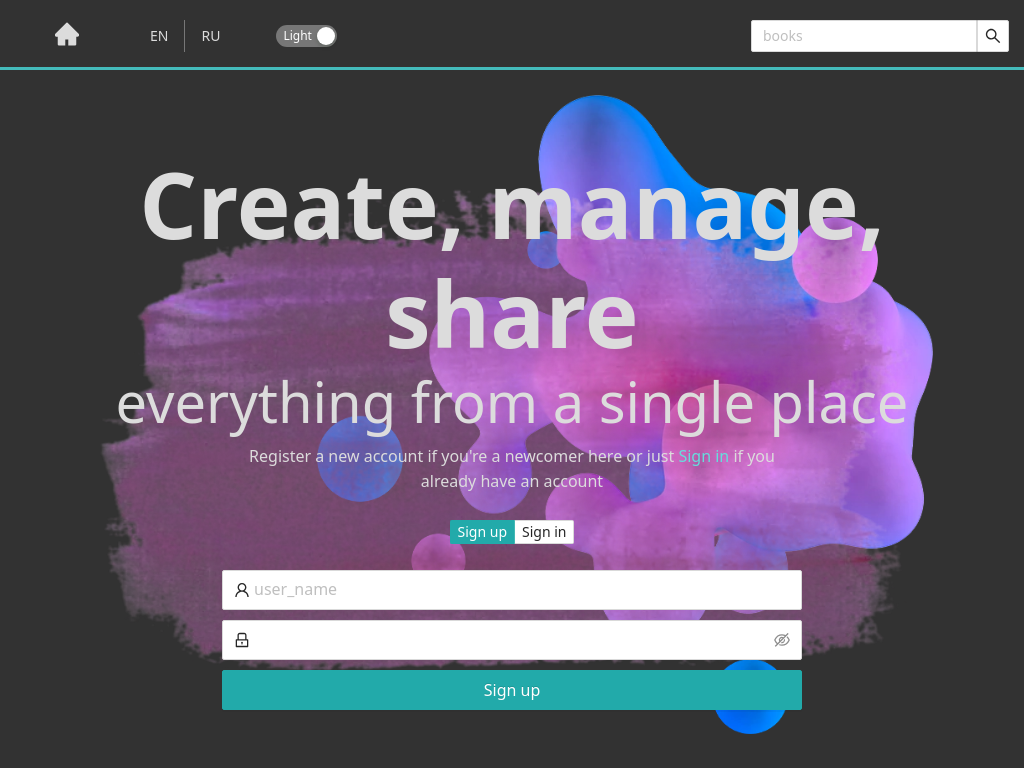
Scenario: languages are switching properly
Expected: the heading "Create, manage, share" is shown, x1=139 y1=142 x2=885 y2=375
What coordinates should you click on to do the following:
click the button "RU"
I would click on:
 (211, 36)
Its box is x1=185 y1=20 x2=236 y2=52.
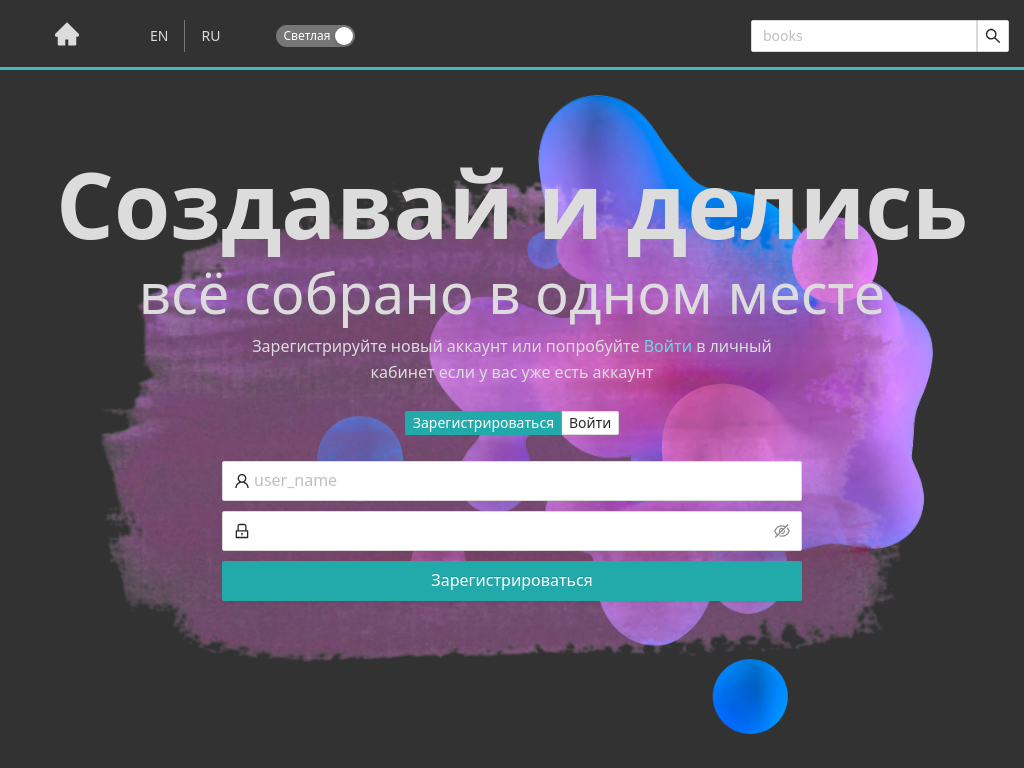
Now the heading "Create, manage, share" reads "Создавай и делись", box x1=56 y1=142 x2=968 y2=266
What coordinates should you click on to do the following:
click the button "EN"
I would click on:
 (159, 36)
Its box is x1=134 y1=20 x2=184 y2=52.
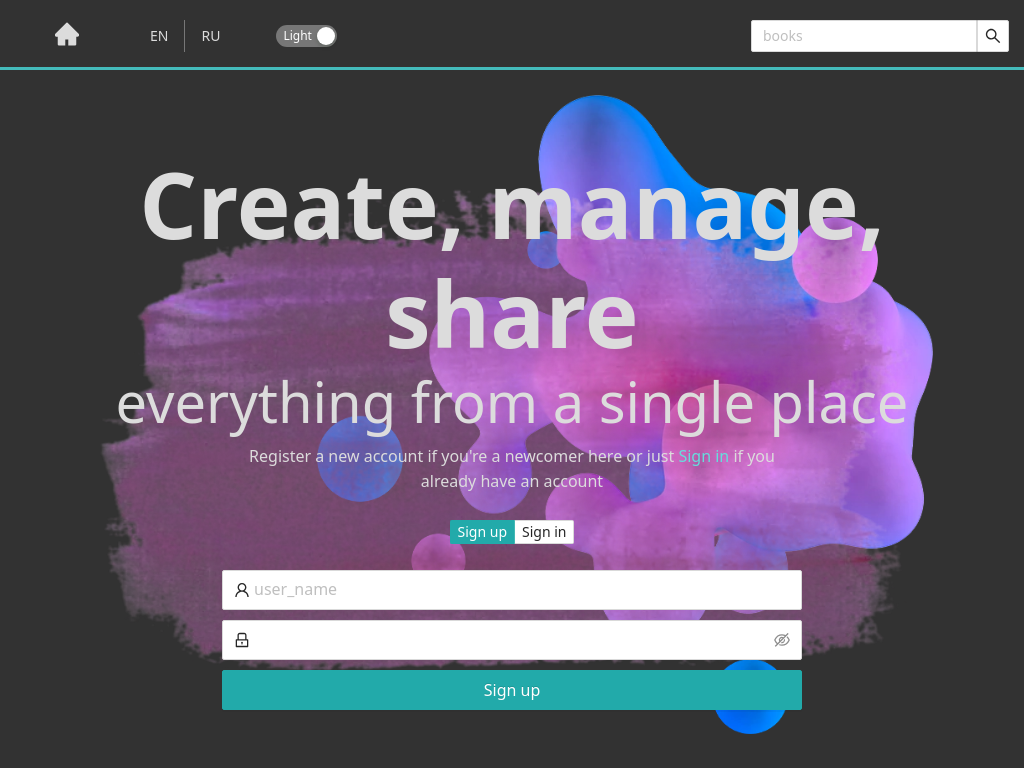
Now the heading "Create, manage, share" is shown, box x1=139 y1=142 x2=885 y2=375
